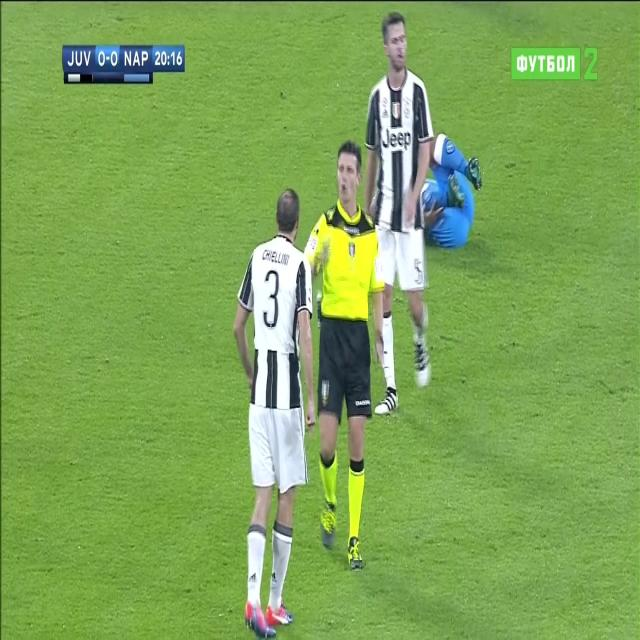Player: (230, 186, 314, 640), (364, 11, 432, 425), (417, 128, 485, 249)
Referee: (302, 142, 380, 566)
